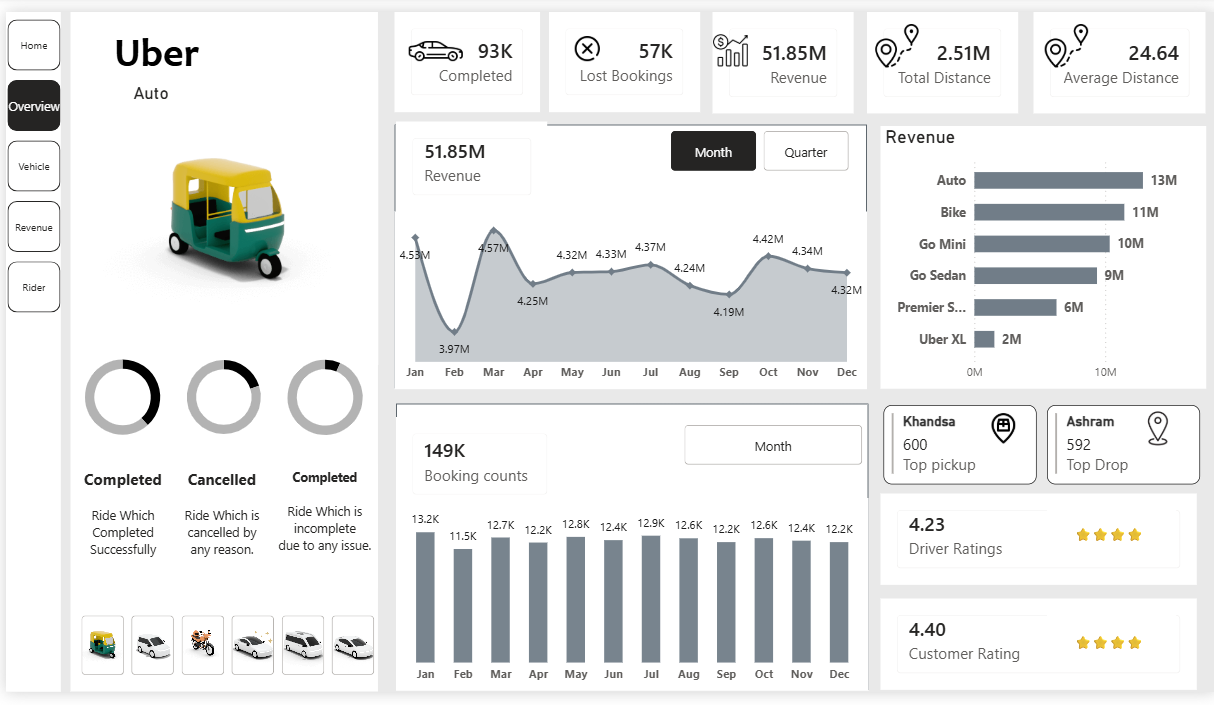

The dashboard page shown, as its layout file describes it:
{"tool":"powerbi","page":{"name":"Overview","canvas":[1280,720],"ordinal":1},"visuals":[{"type":"shape","box":[68.5,0.7,325.4,719],"z":0,"group":"g4"},{"type":"group","id":"g1","title":"Group 2","box":[411.1,119.1,500,279.4],"z":0,"group":"g5"},{"type":"shape","box":[411.1,119.1,500,279.4],"z":0,"group":"g1"},{"type":"group","id":"g2","title":"Group 3","box":[412.7,414.3,500,303.2],"z":0},{"type":"group","id":"g3","title":"Group 2","box":[413,414.3,500,303.2],"z":0,"group":"g2"},{"type":"shape","box":[413,414.3,500,303.2],"z":0,"group":"g3"},{"type":"shape","box":[0,0,58.2,719.4],"z":1000},{"type":"cardVisual","fields":{"Data":["_measure.Booking Value"]},"box":[412.5,115.8,160.3,95.2],"z":1000,"group":"g5"},{"type":"cardVisual","fields":{"Data":["_measure.Booking count"]},"box":[412.7,428.3,177.8,99.4],"z":1000,"group":"g2"},{"type":"textbox","box":[110.1,12.1,107.1,64.2],"z":2000,"group":"g4"},{"type":"cardVisual","fields":{"Data":["Avg(Uber.Driver Ratings)"]},"box":[925.4,509.5,334.9,96.8],"z":2000},{"type":"cardVisual","fields":{"Data":["_measure.Completed Bookings"]},"box":[410.4,0,153.7,106],"z":3000},{"type":"cardVisual","fields":{"Data":["_measure.Lost Bookings"]},"box":[574.6,0,159.7,106],"z":4000},{"type":"cardVisual","fields":{"Data":["_measure.Booking Value"]},"box":[747.8,0,149.3,107.5],"z":5000},{"type":"cardVisual","fields":{"Data":["_measure.Total Distance"]},"box":[910.4,0,159.7,107.5],"z":6000},{"type":"group","id":"g4","title":"Group 1","box":[68.5,0.7,325.4,719],"z":7000},{"type":"cardVisual","fields":{"Data":["_measure.Average Distance"]},"box":[1086.6,0,182.1,107.5],"z":8000},{"type":"advancedSlicerVisual","fields":{"Values":["Img.Img"]},"box":[74.6,633.3,325.4,73],"z":9000},{"type":"cardVisual","fields":{"Data":["Min(Img.Img)"]},"box":[74.6,61.9,319,311.1],"z":10000},{"type":"lineChart","fields":{"Category":["calender.Month"],"Y":["_measure.Revenue"]},"box":[411.1,210.7,500,187.8],"z":10000,"group":"g1"},{"type":"clusteredColumnChart","fields":{"Category":["calender.Month"],"Y":["_measure.Booking count"]},"box":[413,513.7,500,203.8],"z":10000,"group":"g3"},{"type":"advancedSlicerVisual","fields":{"Values":["Date Axis.Date Axis"]},"box":[712.7,431.7,198.4,52.4],"z":11000},{"type":"card","fields":{"Values":["Min(Img.Vehicle Type)"]},"box":[69.8,63.5,166.7,44.4],"z":12000},{"type":"group","id":"g5","title":"Group 3","box":[411.1,115.8,500,282.6],"z":13000},{"type":"clusteredBarChart","title":"Revenue ","fields":{"Category":["Img.Vehicle Type"],"Y":["_measure.Revenue"]},"box":[925.4,120.6,344.4,277.8],"z":14000},{"type":"multiRowCard","fields":{"Values":["Uber.Pickup Location","_measure.Completed Bookings"]},"box":[928.6,415.9,161.9,84.1],"z":15000},{"type":"multiRowCard","fields":{"Values":["Uber.Drop Location","_measure.Completed Bookings"]},"box":[1101.6,415.9,161.9,84.1],"z":16000},{"type":"cardVisual","fields":{"Data":["Avg(Uber.Customer Rating)"]},"box":[925.4,620.6,334.9,96.8],"z":17000},{"type":"cardVisual","fields":{"Data":["_measure.Driver Star Ratings"]},"box":[1101.6,522.2,136.5,57.1],"z":18000},{"type":"cardVisual","fields":{"Data":["_measure.Customer Star Rating"]},"box":[1101.6,636.5,136.5,57.1],"z":19000},{"type":"advancedSlicerVisual","fields":{"Values":["Date Axis.Date Axis"]},"box":[698.4,120.6,198.4,52.4],"z":20000},{"type":"donutChart","fields":{"Y":["_measure.Booking count","_measure.remove Bookings status Filter"]},"box":[176.2,342.9,107.9,128.6],"z":20000,"group":"g6"},{"type":"donutChart","fields":{"Y":["_measure.Booking count","_measure.remove Bookings status Filter"]},"box":[282.6,347.4,109.5,119.6],"z":21000,"group":"g6"},{"type":"textbox","box":[71.4,477.8,104.8,131.7],"z":21000},{"type":"group","id":"g6","title":"Group 4","box":[68.3,342.9,323.8,128.6],"z":22000},{"type":"donutChart","fields":{"Y":["_measure.Booking count","_measure.remove Bookings status Filter"]},"box":[68.3,342.9,109.5,128.6],"z":22000,"group":"g6"},{"type":"textbox","box":[176.2,477.8,104.8,131.7],"z":23000},{"type":"textbox","box":[281,477.8,112.7,131.7],"z":24000},{"type":"image","box":[417.5,12.7,74.6,57.1],"z":25000},{"type":"image","box":[734.9,22.2,63.5,36.5],"z":26000},{"type":"image","box":[911.1,12.7,63.5,46],"z":27000},{"type":"image","box":[1090.5,12.7,63.5,46],"z":28000},{"type":"image","box":[590.5,25.4,49.2,27],"z":29000},{"type":"image","box":[1023.8,422.2,63.5,36.5],"z":30000},{"type":"image","box":[1174.6,422.2,88.9,36.5],"z":31000},{"type":"pageNavigator","box":[1.5,7.5,56.7,310.4],"z":33005}]}

Visuals, with their boxes on the page's 1280x720 design canvas (x1, y1, x2, y2). These are canvas units, not pixel positions in the 1214x705 screenshot, which may show the page scaled, cropped or inside an application window:
shape: l=68, t=1, r=394, b=720
"Group 2" group: l=411, t=119, r=911, b=398
shape: l=411, t=119, r=911, b=398
"Group 3" group: l=413, t=414, r=913, b=718
"Group 2" group: l=413, t=414, r=913, b=718
shape: l=413, t=414, r=913, b=718
shape: l=0, t=0, r=58, b=719
cardVisual - _measure.Booking Value: l=412, t=116, r=573, b=211
cardVisual - _measure.Booking count: l=413, t=428, r=590, b=528
textbox: l=110, t=12, r=217, b=76
cardVisual - Avg(Uber.Driver Ratings): l=925, t=510, r=1260, b=606
cardVisual - _measure.Completed Bookings: l=410, t=0, r=564, b=106
cardVisual - _measure.Lost Bookings: l=575, t=0, r=734, b=106
cardVisual - _measure.Booking Value: l=748, t=0, r=897, b=108
cardVisual - _measure.Total Distance: l=910, t=0, r=1070, b=108
"Group 1" group: l=68, t=1, r=394, b=720
cardVisual - _measure.Average Distance: l=1087, t=0, r=1269, b=108
advancedSlicerVisual - Img.Img: l=75, t=633, r=400, b=706
cardVisual - Min(Img.Img): l=75, t=62, r=394, b=373
lineChart - calender.Month x _measure.Revenue: l=411, t=211, r=911, b=398
clusteredColumnChart - calender.Month x _measure.Booking count: l=413, t=514, r=913, b=718
advancedSlicerVisual - Date Axis.Date Axis: l=713, t=432, r=911, b=484
card - Min(Img.Vehicle Type): l=70, t=64, r=236, b=108
"Group 3" group: l=411, t=116, r=911, b=398
"Revenue " clusteredBarChart: l=925, t=121, r=1270, b=398
multiRowCard - Uber.Pickup Location x _measure.Completed Bookings: l=929, t=416, r=1090, b=500
multiRowCard - Uber.Drop Location x _measure.Completed Bookings: l=1102, t=416, r=1264, b=500
cardVisual - Avg(Uber.Customer Rating): l=925, t=621, r=1260, b=717
cardVisual - _measure.Driver Star Ratings: l=1102, t=522, r=1238, b=579
cardVisual - _measure.Customer Star Rating: l=1102, t=636, r=1238, b=694
advancedSlicerVisual - Date Axis.Date Axis: l=698, t=121, r=897, b=173
donutChart - _measure.Booking count x _measure.remove Bookings status Filter: l=176, t=343, r=284, b=472
donutChart - _measure.Booking count x _measure.remove Bookings status Filter: l=283, t=347, r=392, b=467
textbox: l=71, t=478, r=176, b=610
"Group 4" group: l=68, t=343, r=392, b=472
donutChart - _measure.Booking count x _measure.remove Bookings status Filter: l=68, t=343, r=178, b=472
textbox: l=176, t=478, r=281, b=610
textbox: l=281, t=478, r=394, b=610
image: l=418, t=13, r=492, b=70
image: l=735, t=22, r=798, b=59
image: l=911, t=13, r=975, b=59
image: l=1090, t=13, r=1154, b=59
image: l=590, t=25, r=640, b=52
image: l=1024, t=422, r=1087, b=459
image: l=1175, t=422, r=1264, b=459
pageNavigator: l=2, t=8, r=58, b=318
